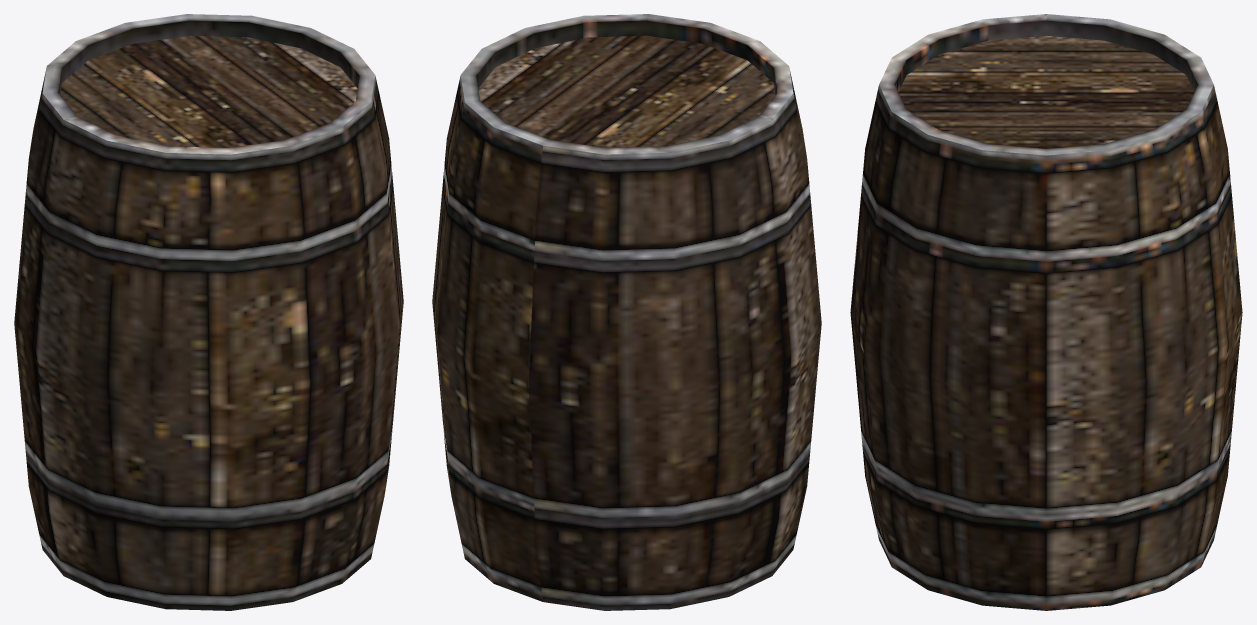
File: Barrel.fbx
The picture shows the model from 3 angles, left to right: view 1: azimuth 30°, elevation 25°; view 2: azimuth 150°, elevation 25°; view 3: azimuth 270°, elevation 25°; orthographic projection.
Parts seen in each view (by area): view 1: Barrel; view 2: Barrel; view 3: Barrel.
Boxes of the visible parts, box(x1,y1,x2,y2) form: Barrel: box(14, 14, 403, 610); Barrel: box(432, 14, 821, 610); Barrel: box(850, 14, 1242, 610).
Bounding box in the file's own units: 0.9363 × 1.2 × 0.9363.
